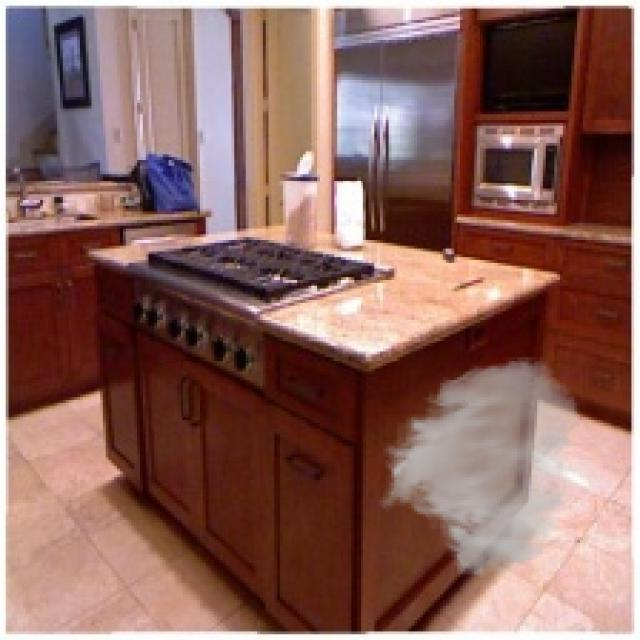smoke: (377, 354, 583, 580)
